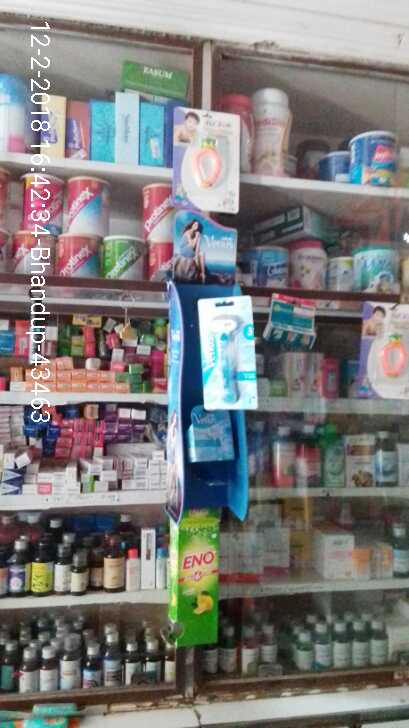beauty: (197, 301, 258, 411), (189, 412, 236, 462)
